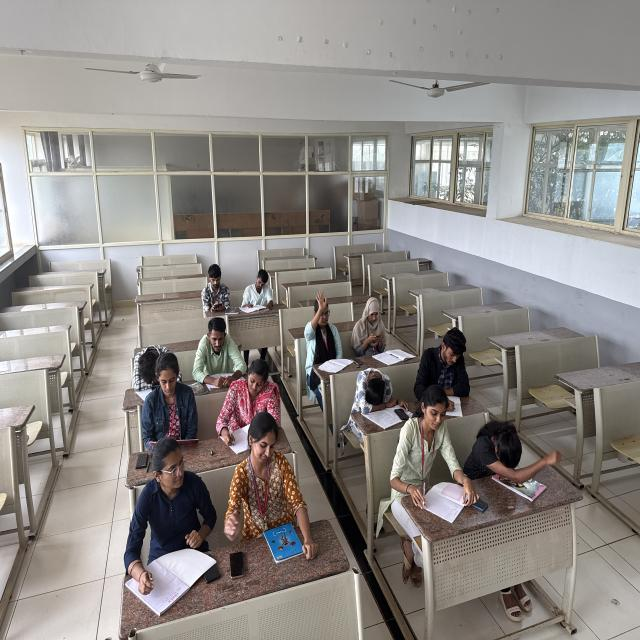Hand Rising: (304, 288, 348, 366)
Reading: (120, 347, 210, 445), (192, 319, 245, 391)
Sleeping: (467, 411, 559, 480), (125, 334, 180, 392), (344, 364, 404, 414)
Using Phone: (351, 298, 392, 355), (200, 263, 237, 317)
Writing: (118, 434, 211, 603), (404, 376, 482, 548), (215, 360, 284, 451), (418, 325, 477, 412), (242, 264, 277, 313)
